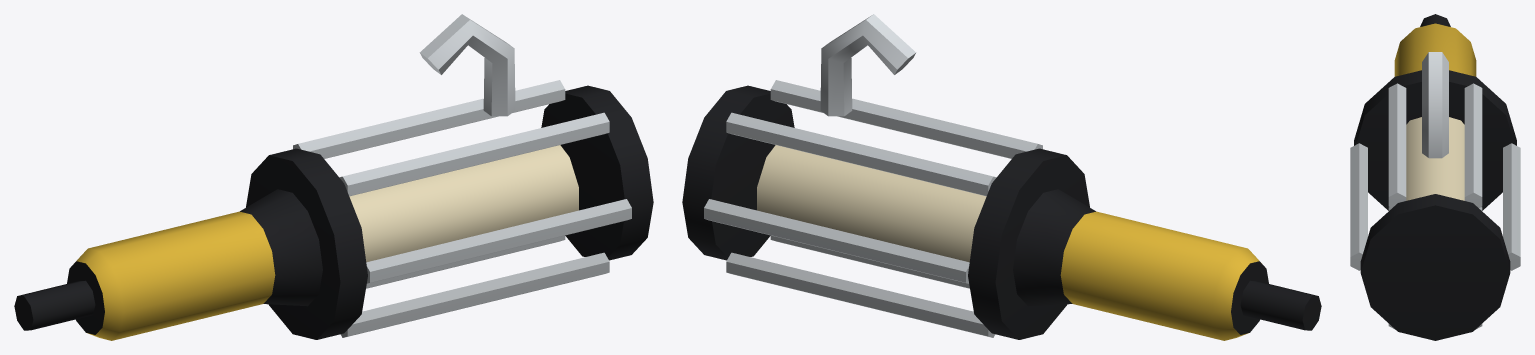
Rendered from SM_TroubleLight_01.glb.
3 renders of one model, left to right at view 1: azimuth 30°, elevation 25°; view 2: azimuth 150°, elevation 25°; view 3: azimuth 270°, elevation 25°, orthographic. The views are drawn at different scales.
Parts seen in each view (by area): view 1: SM_TroubleLight_01; view 2: SM_TroubleLight_01; view 3: SM_TroubleLight_01.
Boxes of the visible parts, x1,y1,x2,y2 form: SM_TroubleLight_01: (14, 14, 653, 340); SM_TroubleLight_01: (682, 14, 1321, 340); SM_TroubleLight_01: (1350, 14, 1520, 340).
Size of the model in its own units: 0.425 by 0.1906 by 0.125.
1 material, 1 textured.
